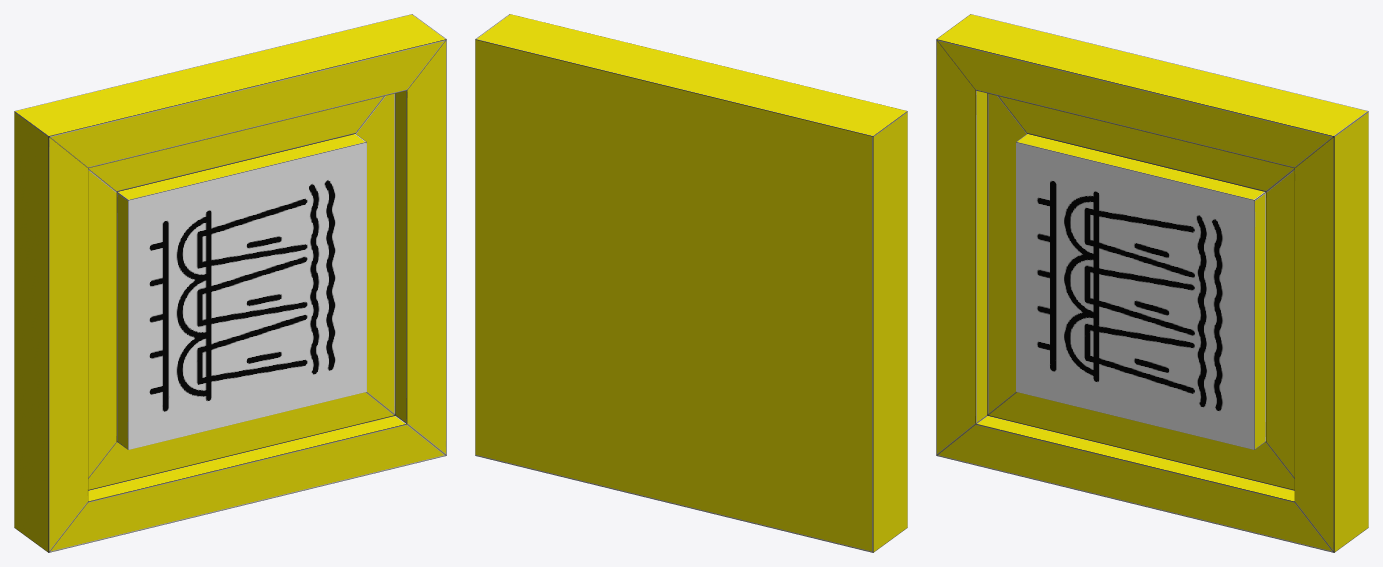
The model's file is RenewableLevel1_rot_2_3.fbx.
The picture shows the model from 3 angles, left to right: view 1: azimuth 30°, elevation 25°; view 2: azimuth 150°, elevation 25°; view 3: azimuth 330°, elevation 25°; orthographic projection.
Visible parts, largest first — view 1: Plane; view 2: Plane; view 3: Plane.
Part boxes in pixels (box(x1,y1,x2,y2)): Plane: box(14, 14, 446, 552); Plane: box(475, 14, 907, 552); Plane: box(936, 14, 1368, 552).
Size of the model in its own units: 460 by 460 by 69.
Materials: 1 (1 with a texture image).
